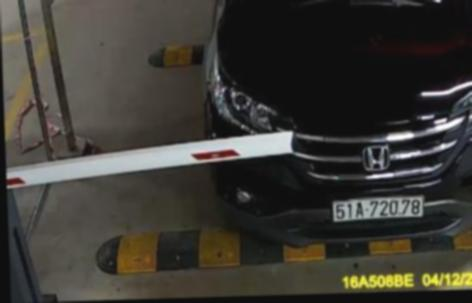License_Plate: (326, 191, 426, 228)
